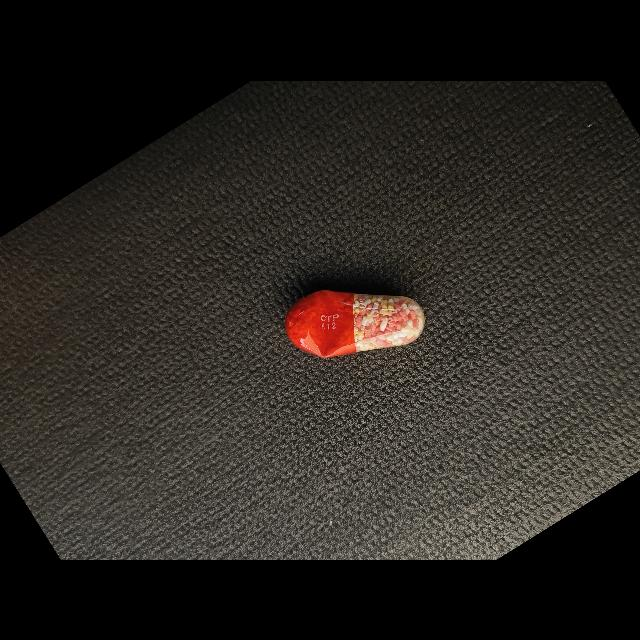Defective Capsule: (285, 289, 425, 357)
